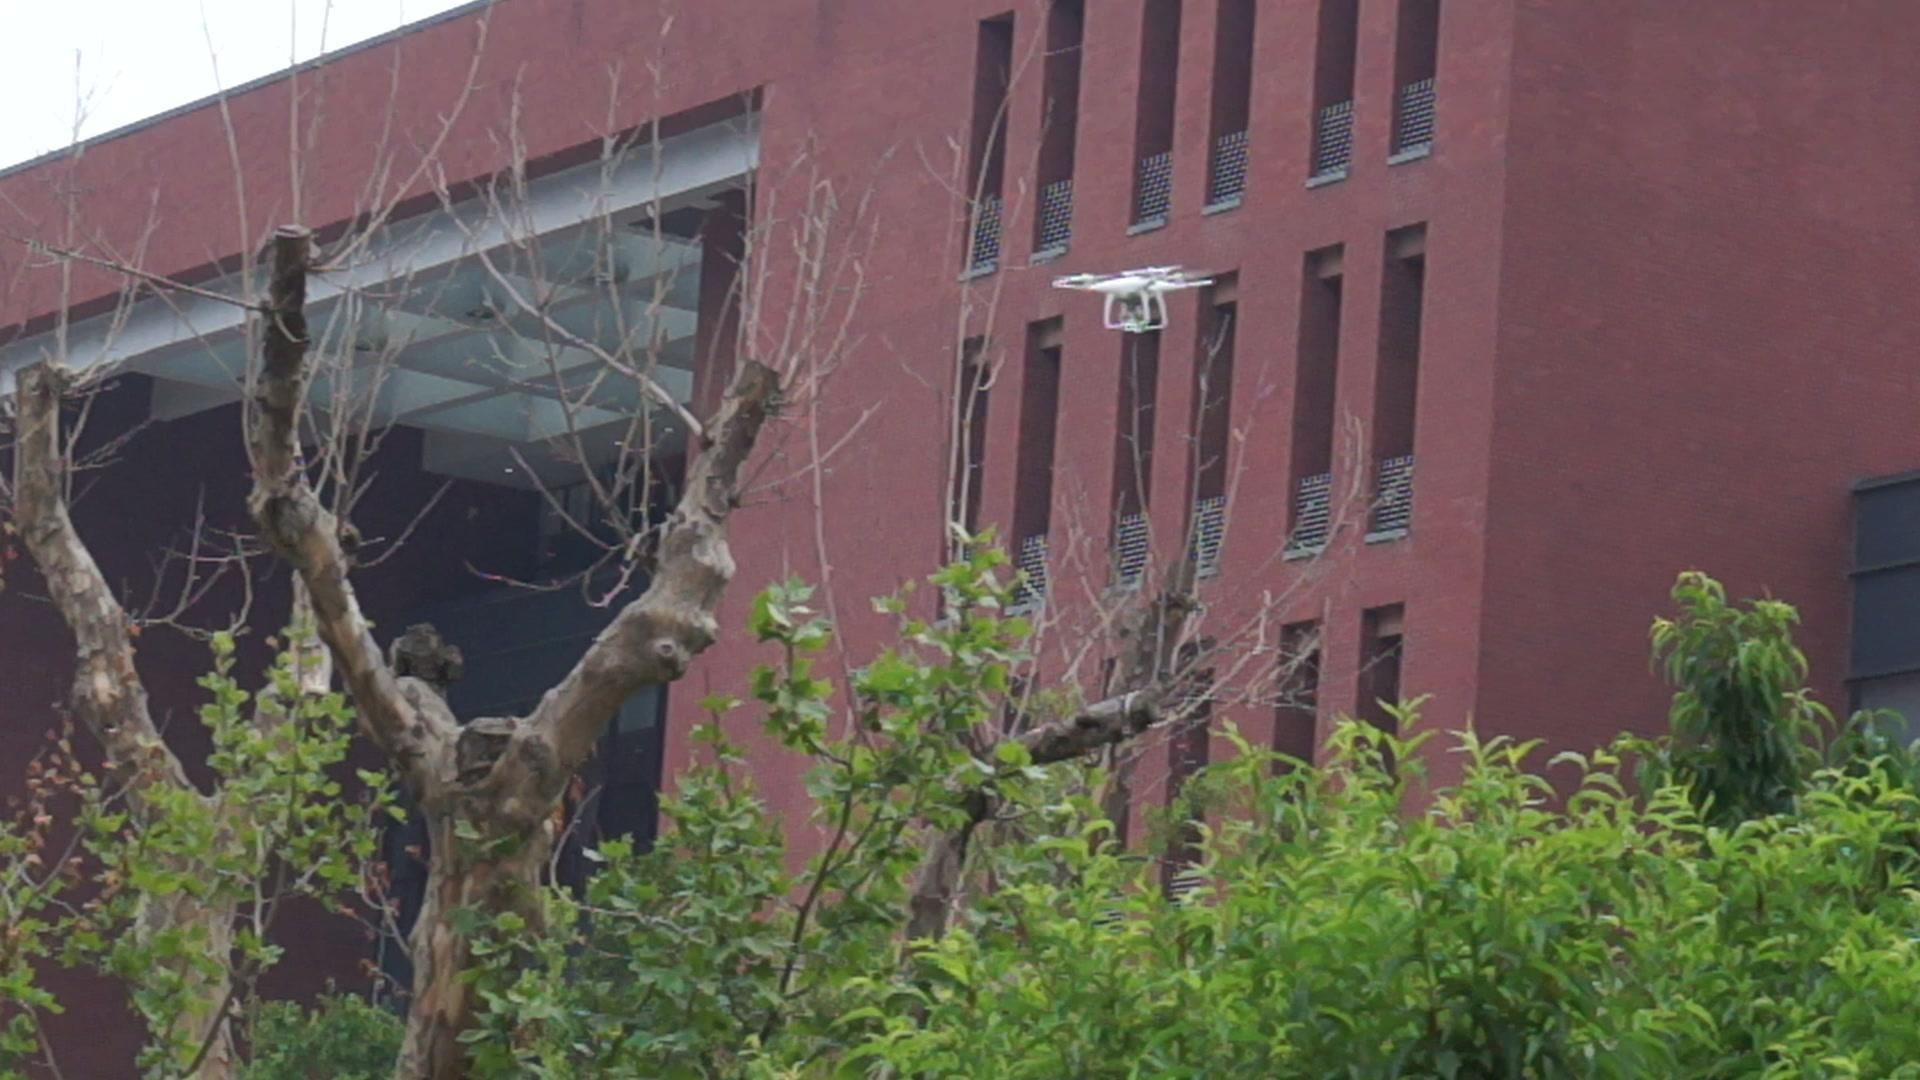UAV: (1054, 266, 1215, 334)
